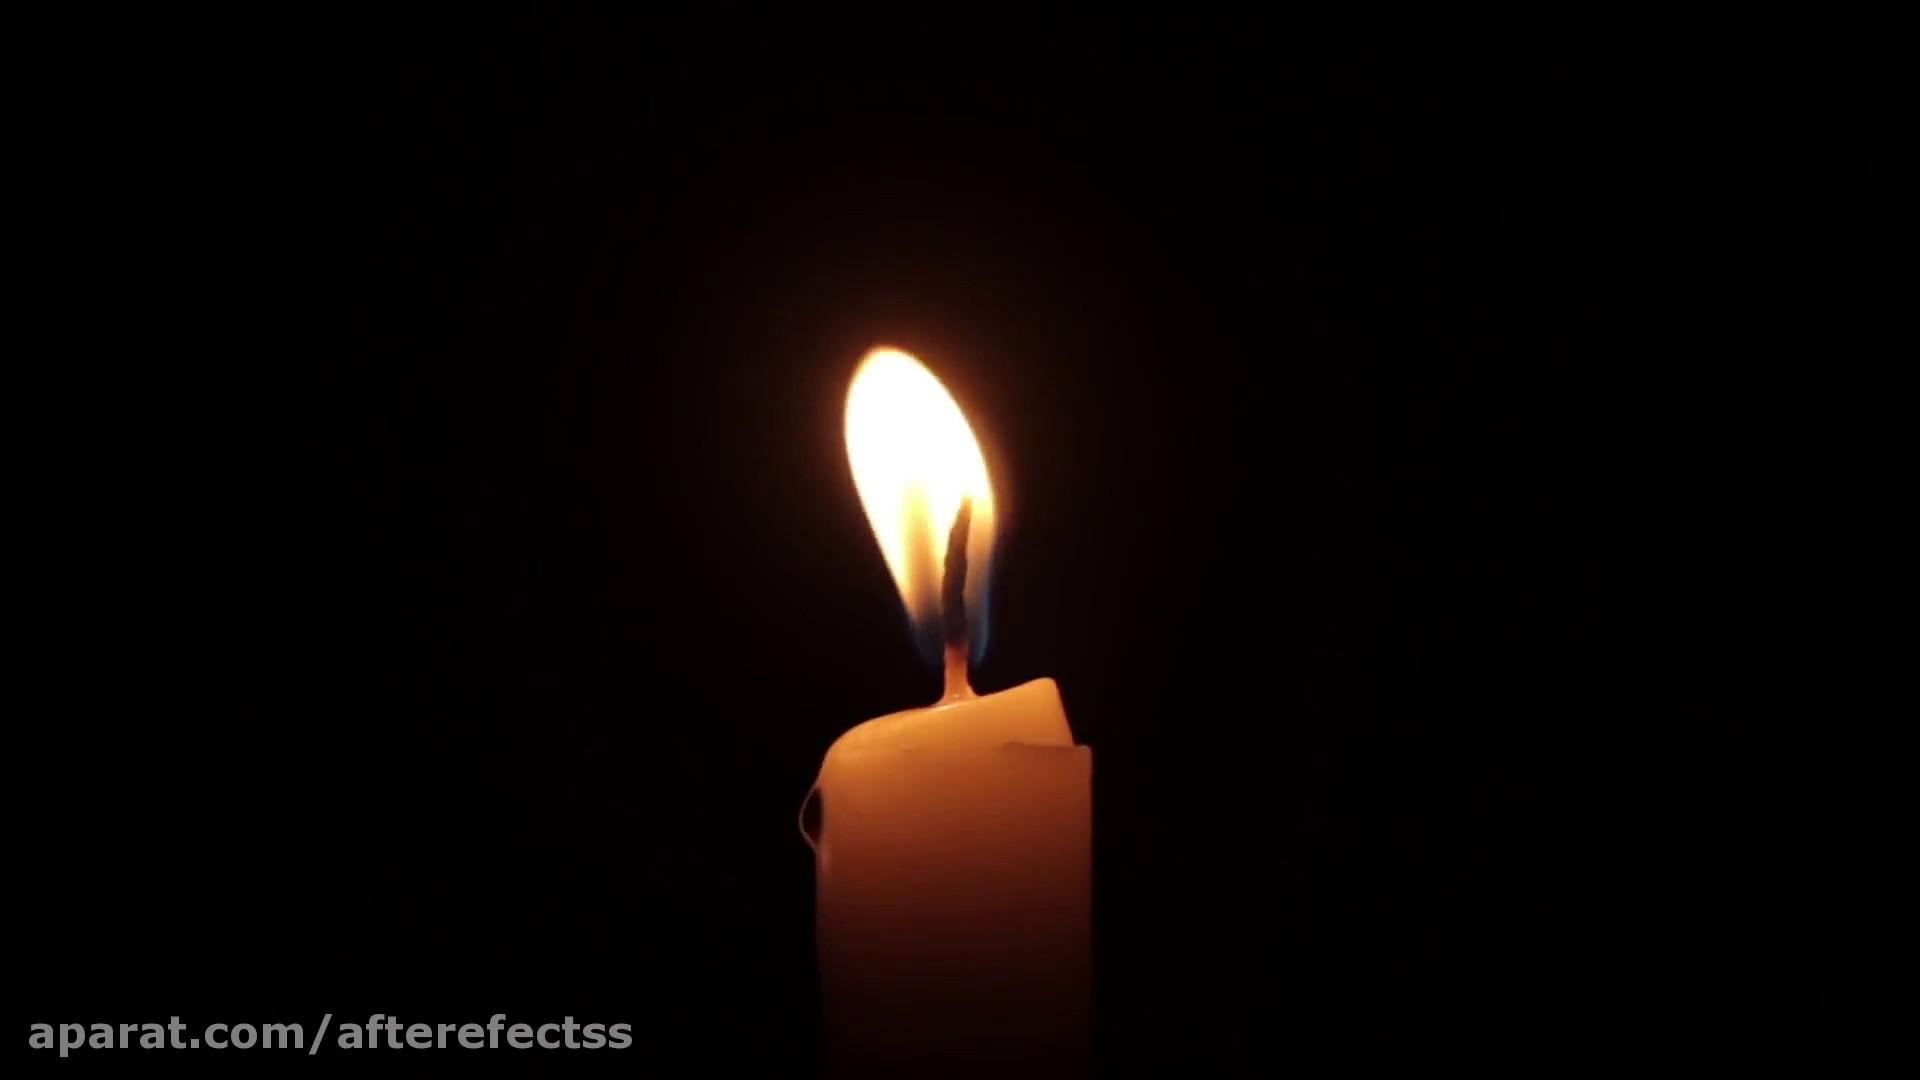fire: (835, 328, 1026, 666)
